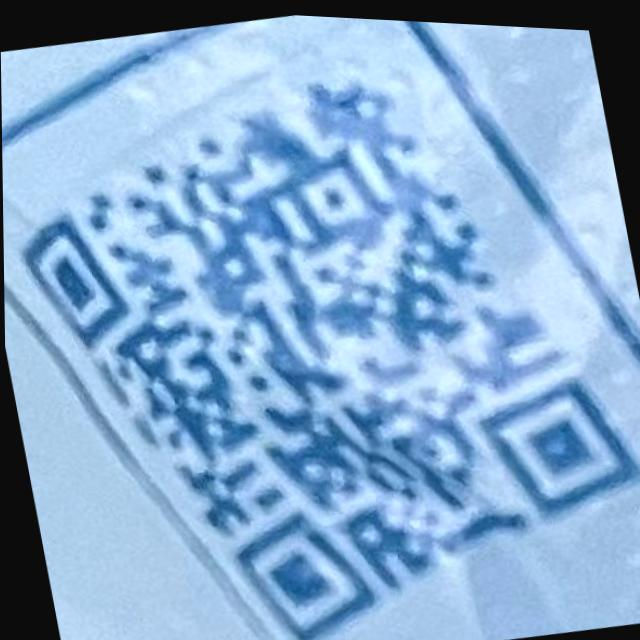QR_CODE: (0, 21, 640, 640)
